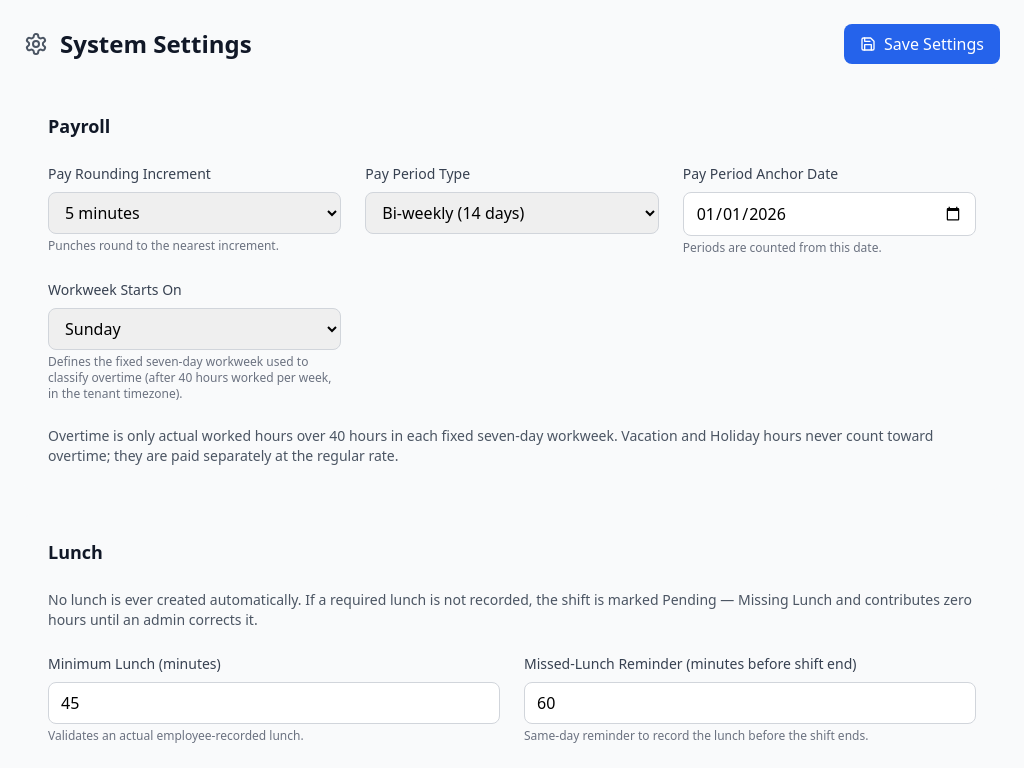
Test: Settings form — focus retention › does not remount the field on each keystroke (stable component identity)
Check: the text "Minimum Lunch (minutes)" is shown, box 48,654 -> 221,673
Click the number field below "Minimum Lunch (minutes)" at (274,703), box 48,682 -> 500,724
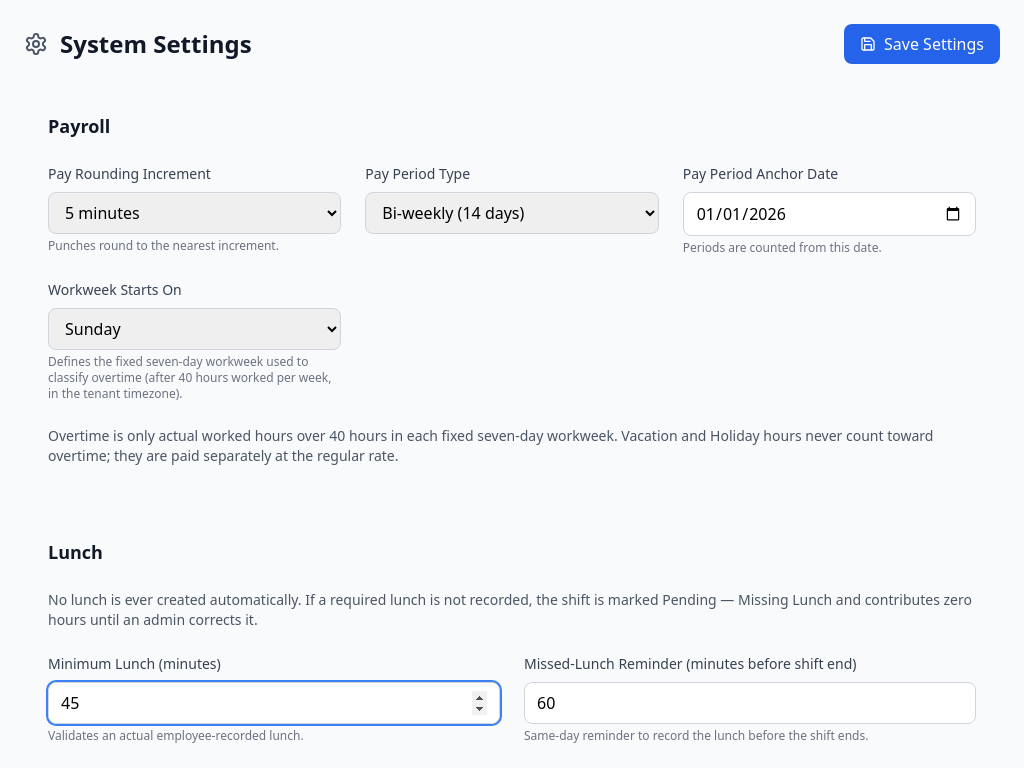
Type keys "{Control>}a{/Control}9"
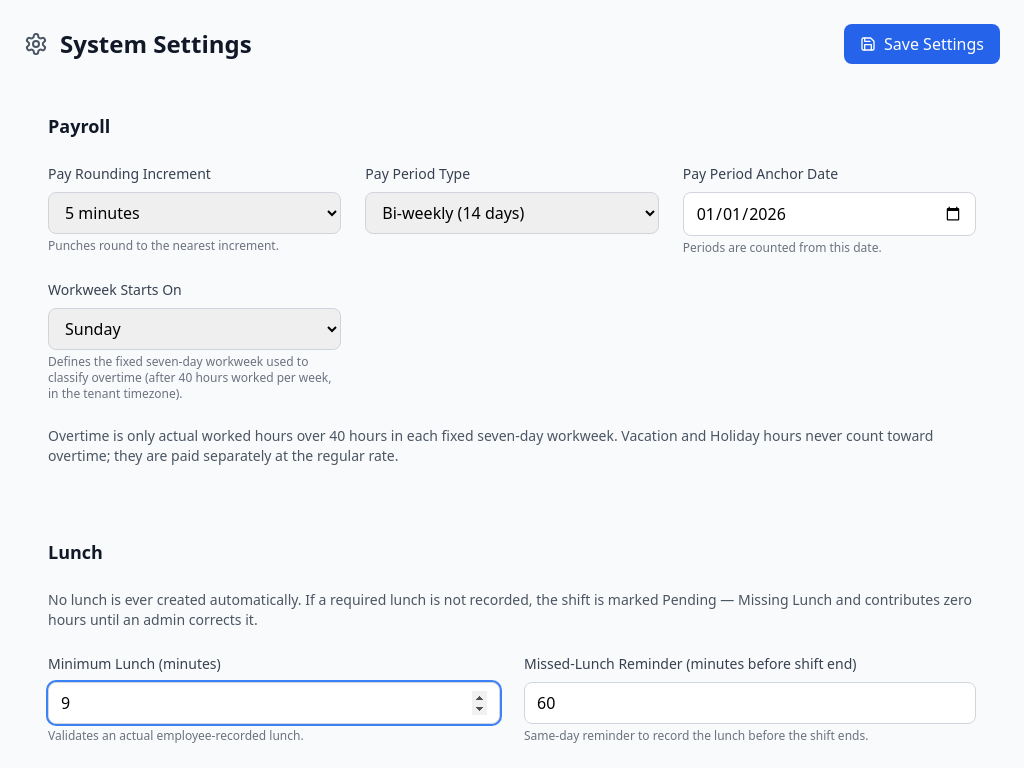
Check: the number field below "Minimum Lunch (minutes)" holds "9", box 48,682 -> 500,724
